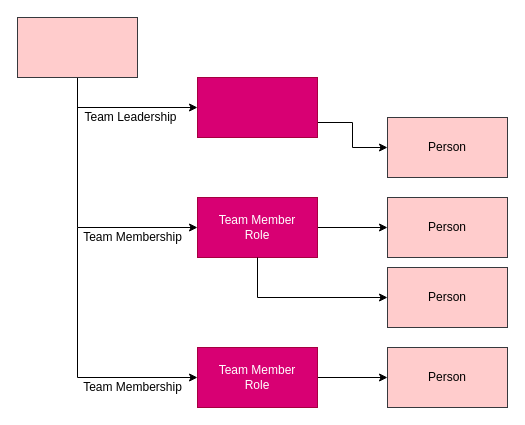
Some shapes in this 525 by 425 pixel diagram are drawn without their labels. Here are the shapes that lost their labels. From the top down, the centre of each, then its label:
point (77, 47): Team/ Organization
point (257, 107): Team Leader Role
